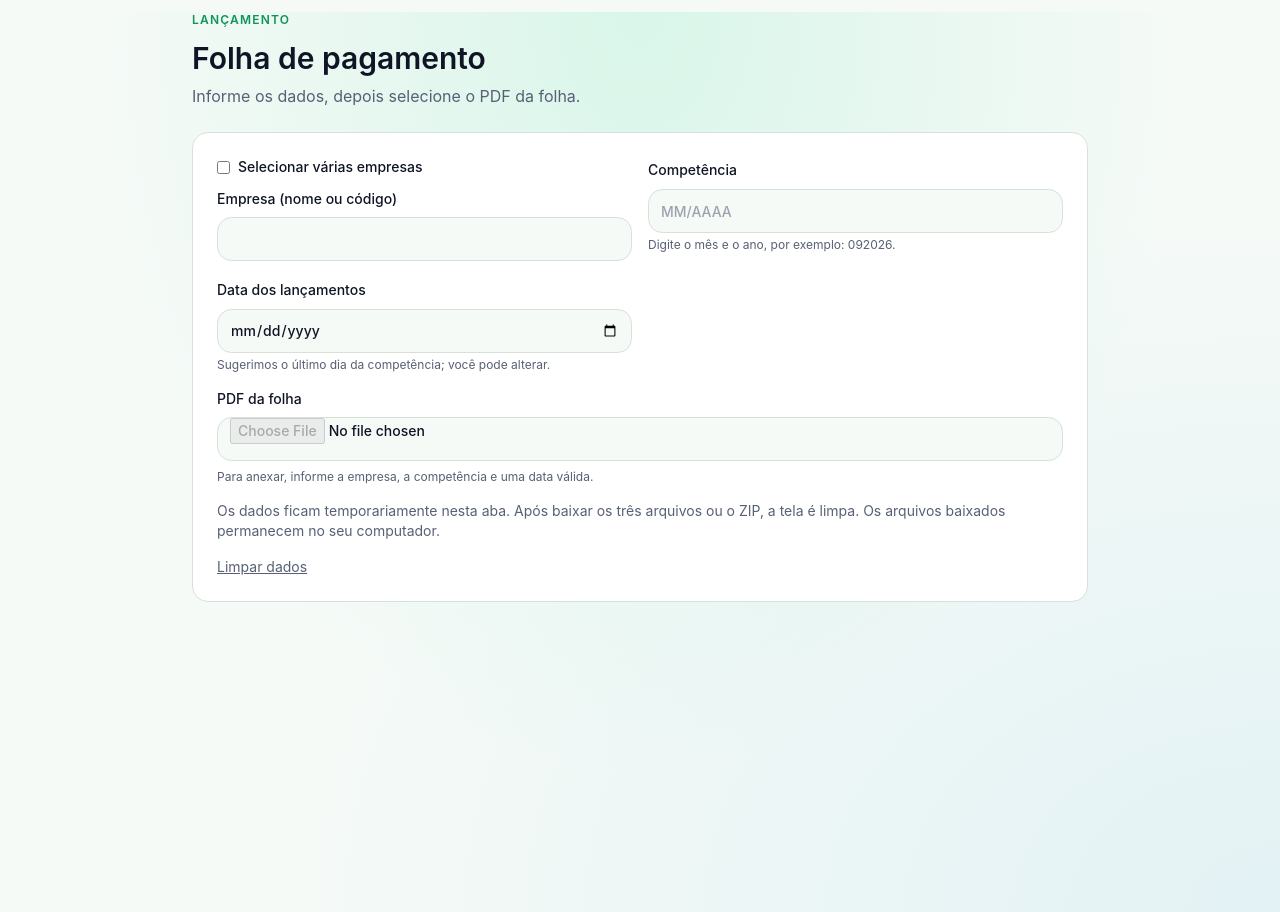
Test: limpeza de dados da folha › mantém o anexo visível e sugere o último dia correto para cada competência
Expected: the file field labelled "PDF da folha" is disabled, [217,417,1063,461]
Expected: the text "Para anexar, informe" is shown, [217,469,593,484]
Step 1. Type "EMPRESA TESTE" into the field labelled "Empresa (nome ou código)" → (424, 239), box [217,217,632,261]
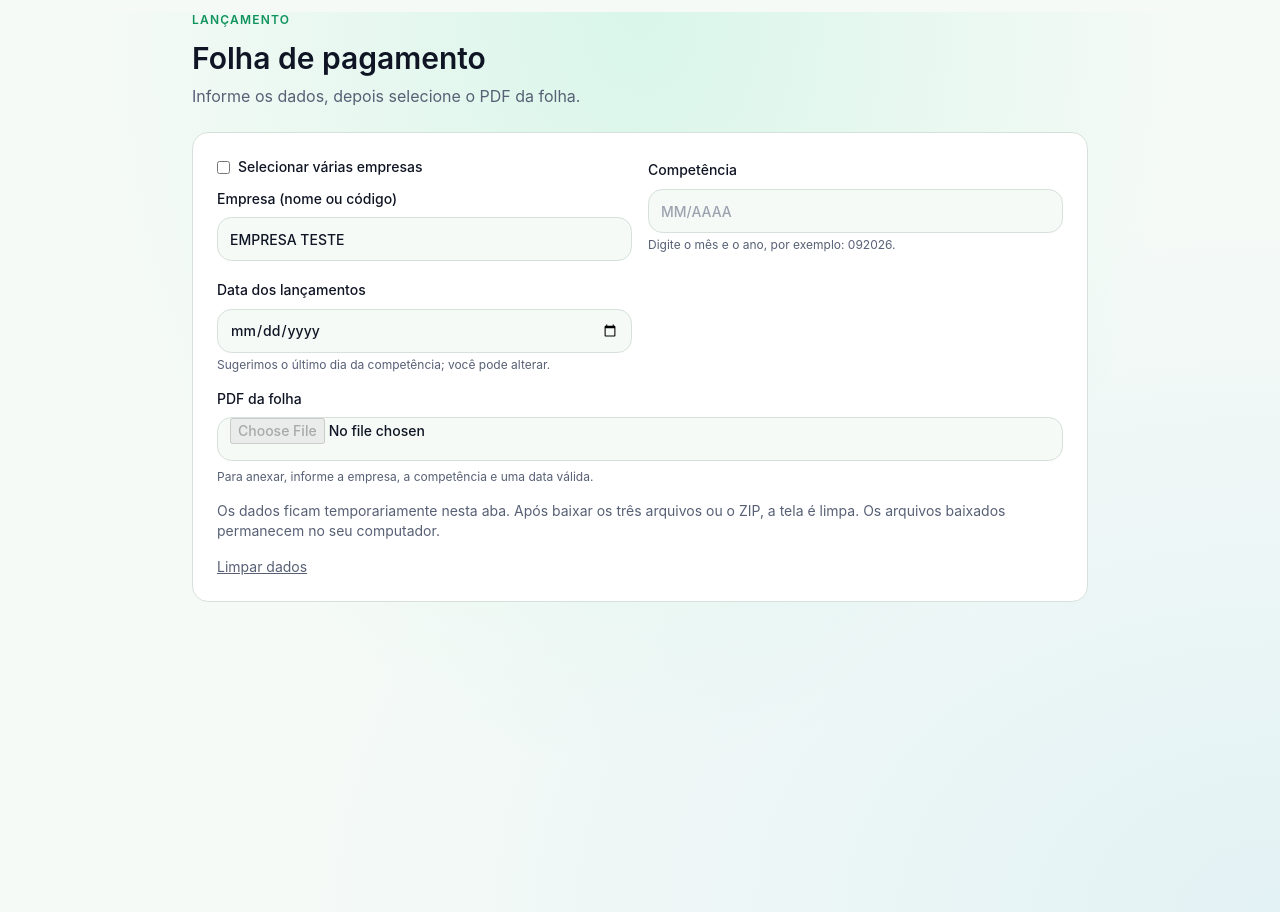
Step 2. Type "092026" into the field labelled "Competência" → (856, 211), box [648,189,1063,233]
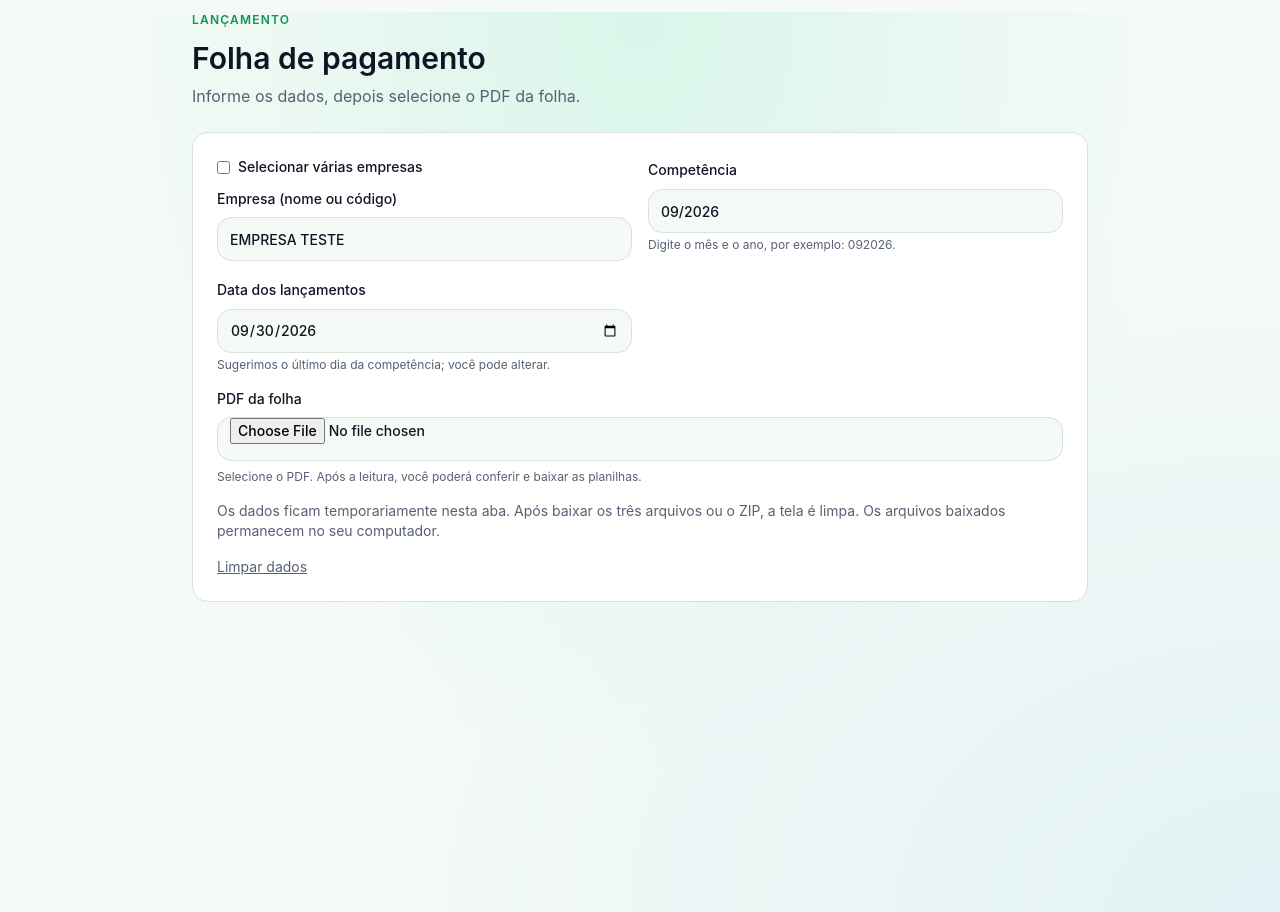
Result: the date field labelled "Data dos lançamentos" holds "2026-09-30" at [217,309,632,353]
Result: the file field labelled "PDF da folha" is enabled at [217,417,1063,461]
Step 3. Replace the text in the field labelled "Competência" with "022024" → (856, 211), box [648,189,1063,233]
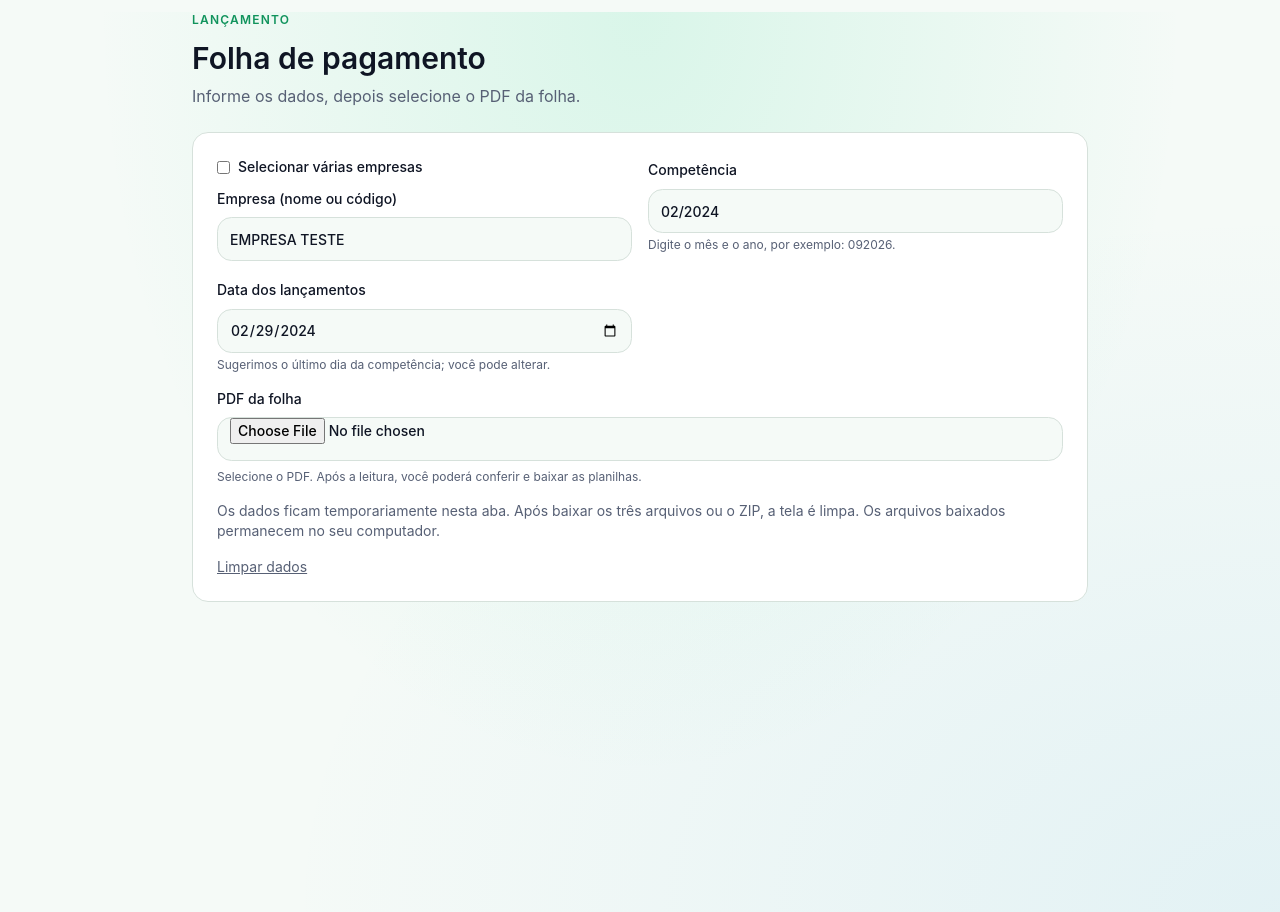
Result: the date field labelled "Data dos lançamentos" holds "2024-02-29"
Step 4. Clear the date field labelled "Data dos lançamentos" → (424, 331), box [217,309,632,353]
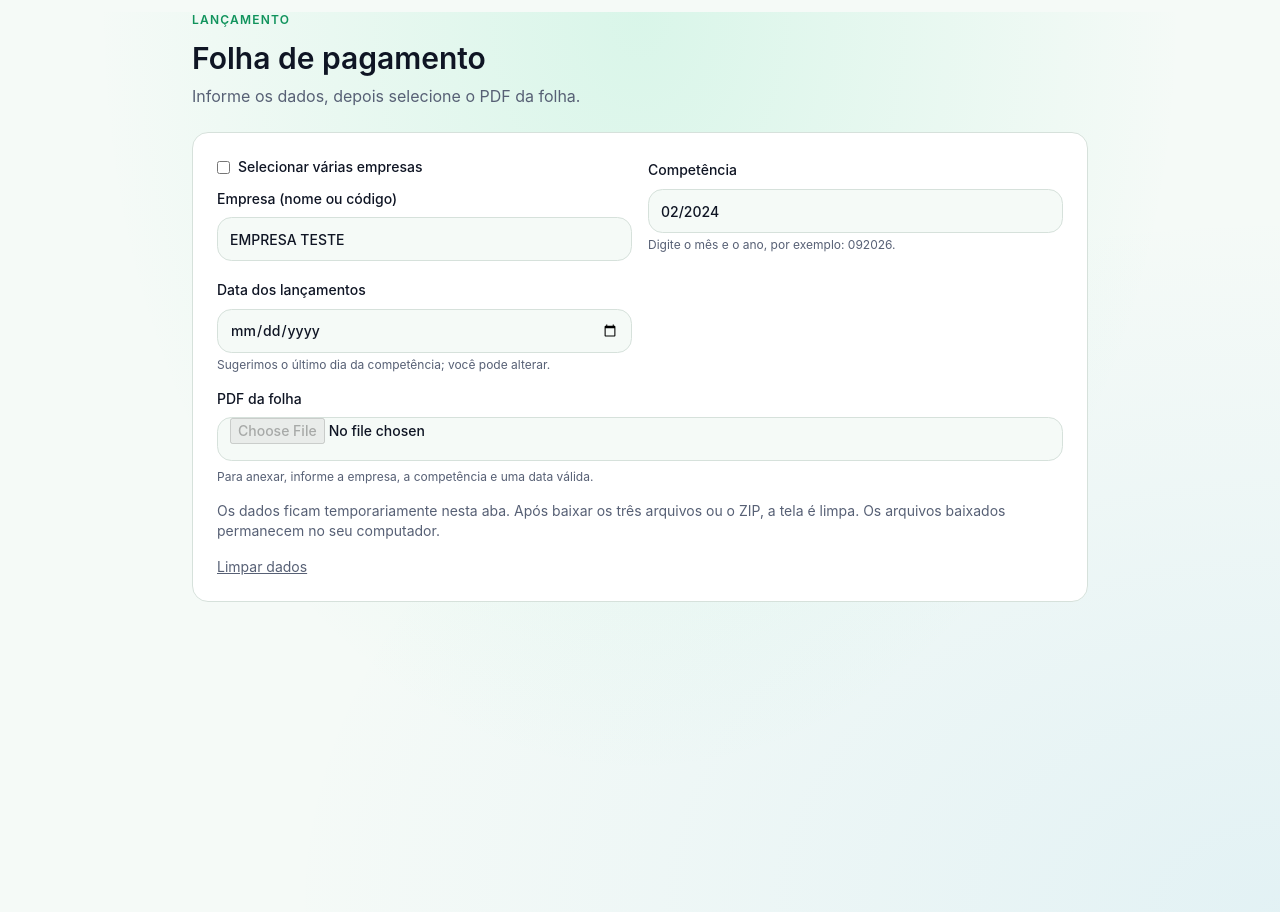
Result: the file field labelled "PDF da folha" is disabled at [217,417,1063,461]
